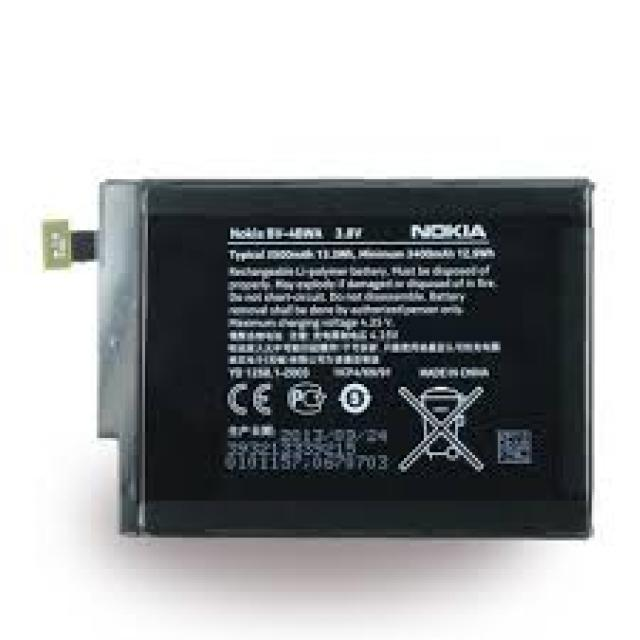battery: (32, 168, 594, 544)
